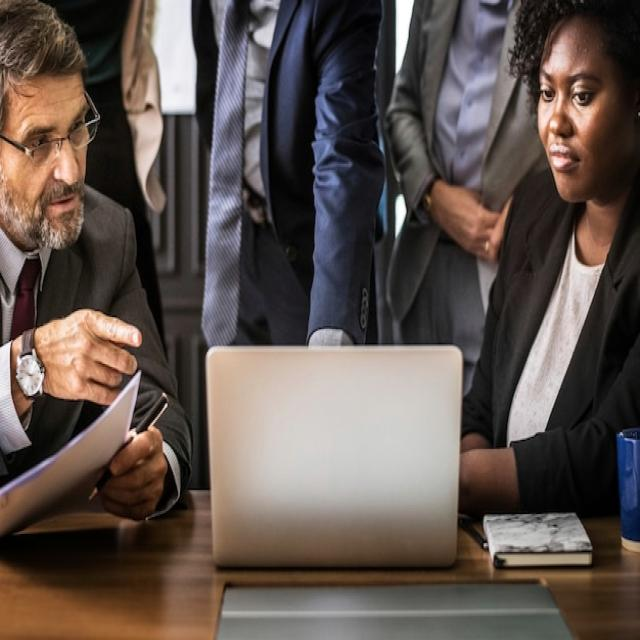adult: (0, 6, 192, 543), (460, 4, 640, 516)
